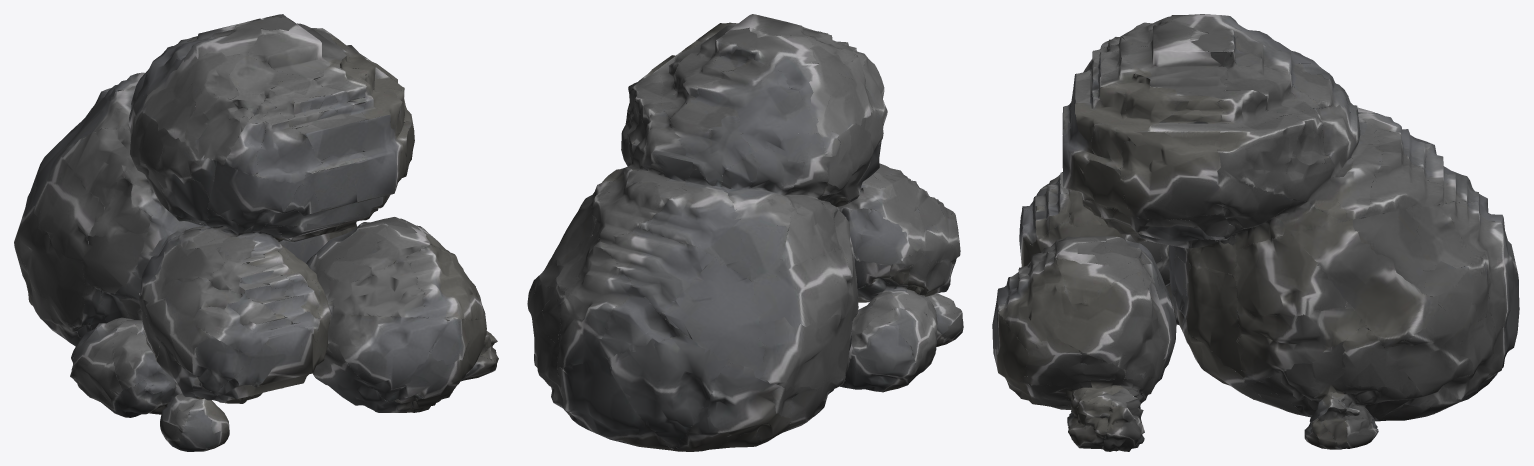
The model's file is boulder_2.glb.
The picture shows the model from 3 angles, left to right: view 1: azimuth 30°, elevation 25°; view 2: azimuth 150°, elevation 25°; view 3: azimuth 270°, elevation 25°; orthographic projection. The views are drawn at different scales.
Visible parts, largest first — view 1: Mesh_0; view 2: Mesh_0; view 3: Mesh_0.
Part boxes in pixels (<box>): Mesh_0: <box>14,14,498,451</box>; Mesh_0: <box>527,14,963,451</box>; Mesh_0: <box>992,14,1519,451</box>.
Bounding box in the file's own units: 1.51 × 1.33 × 1.9.
1 material, 1 textured.
